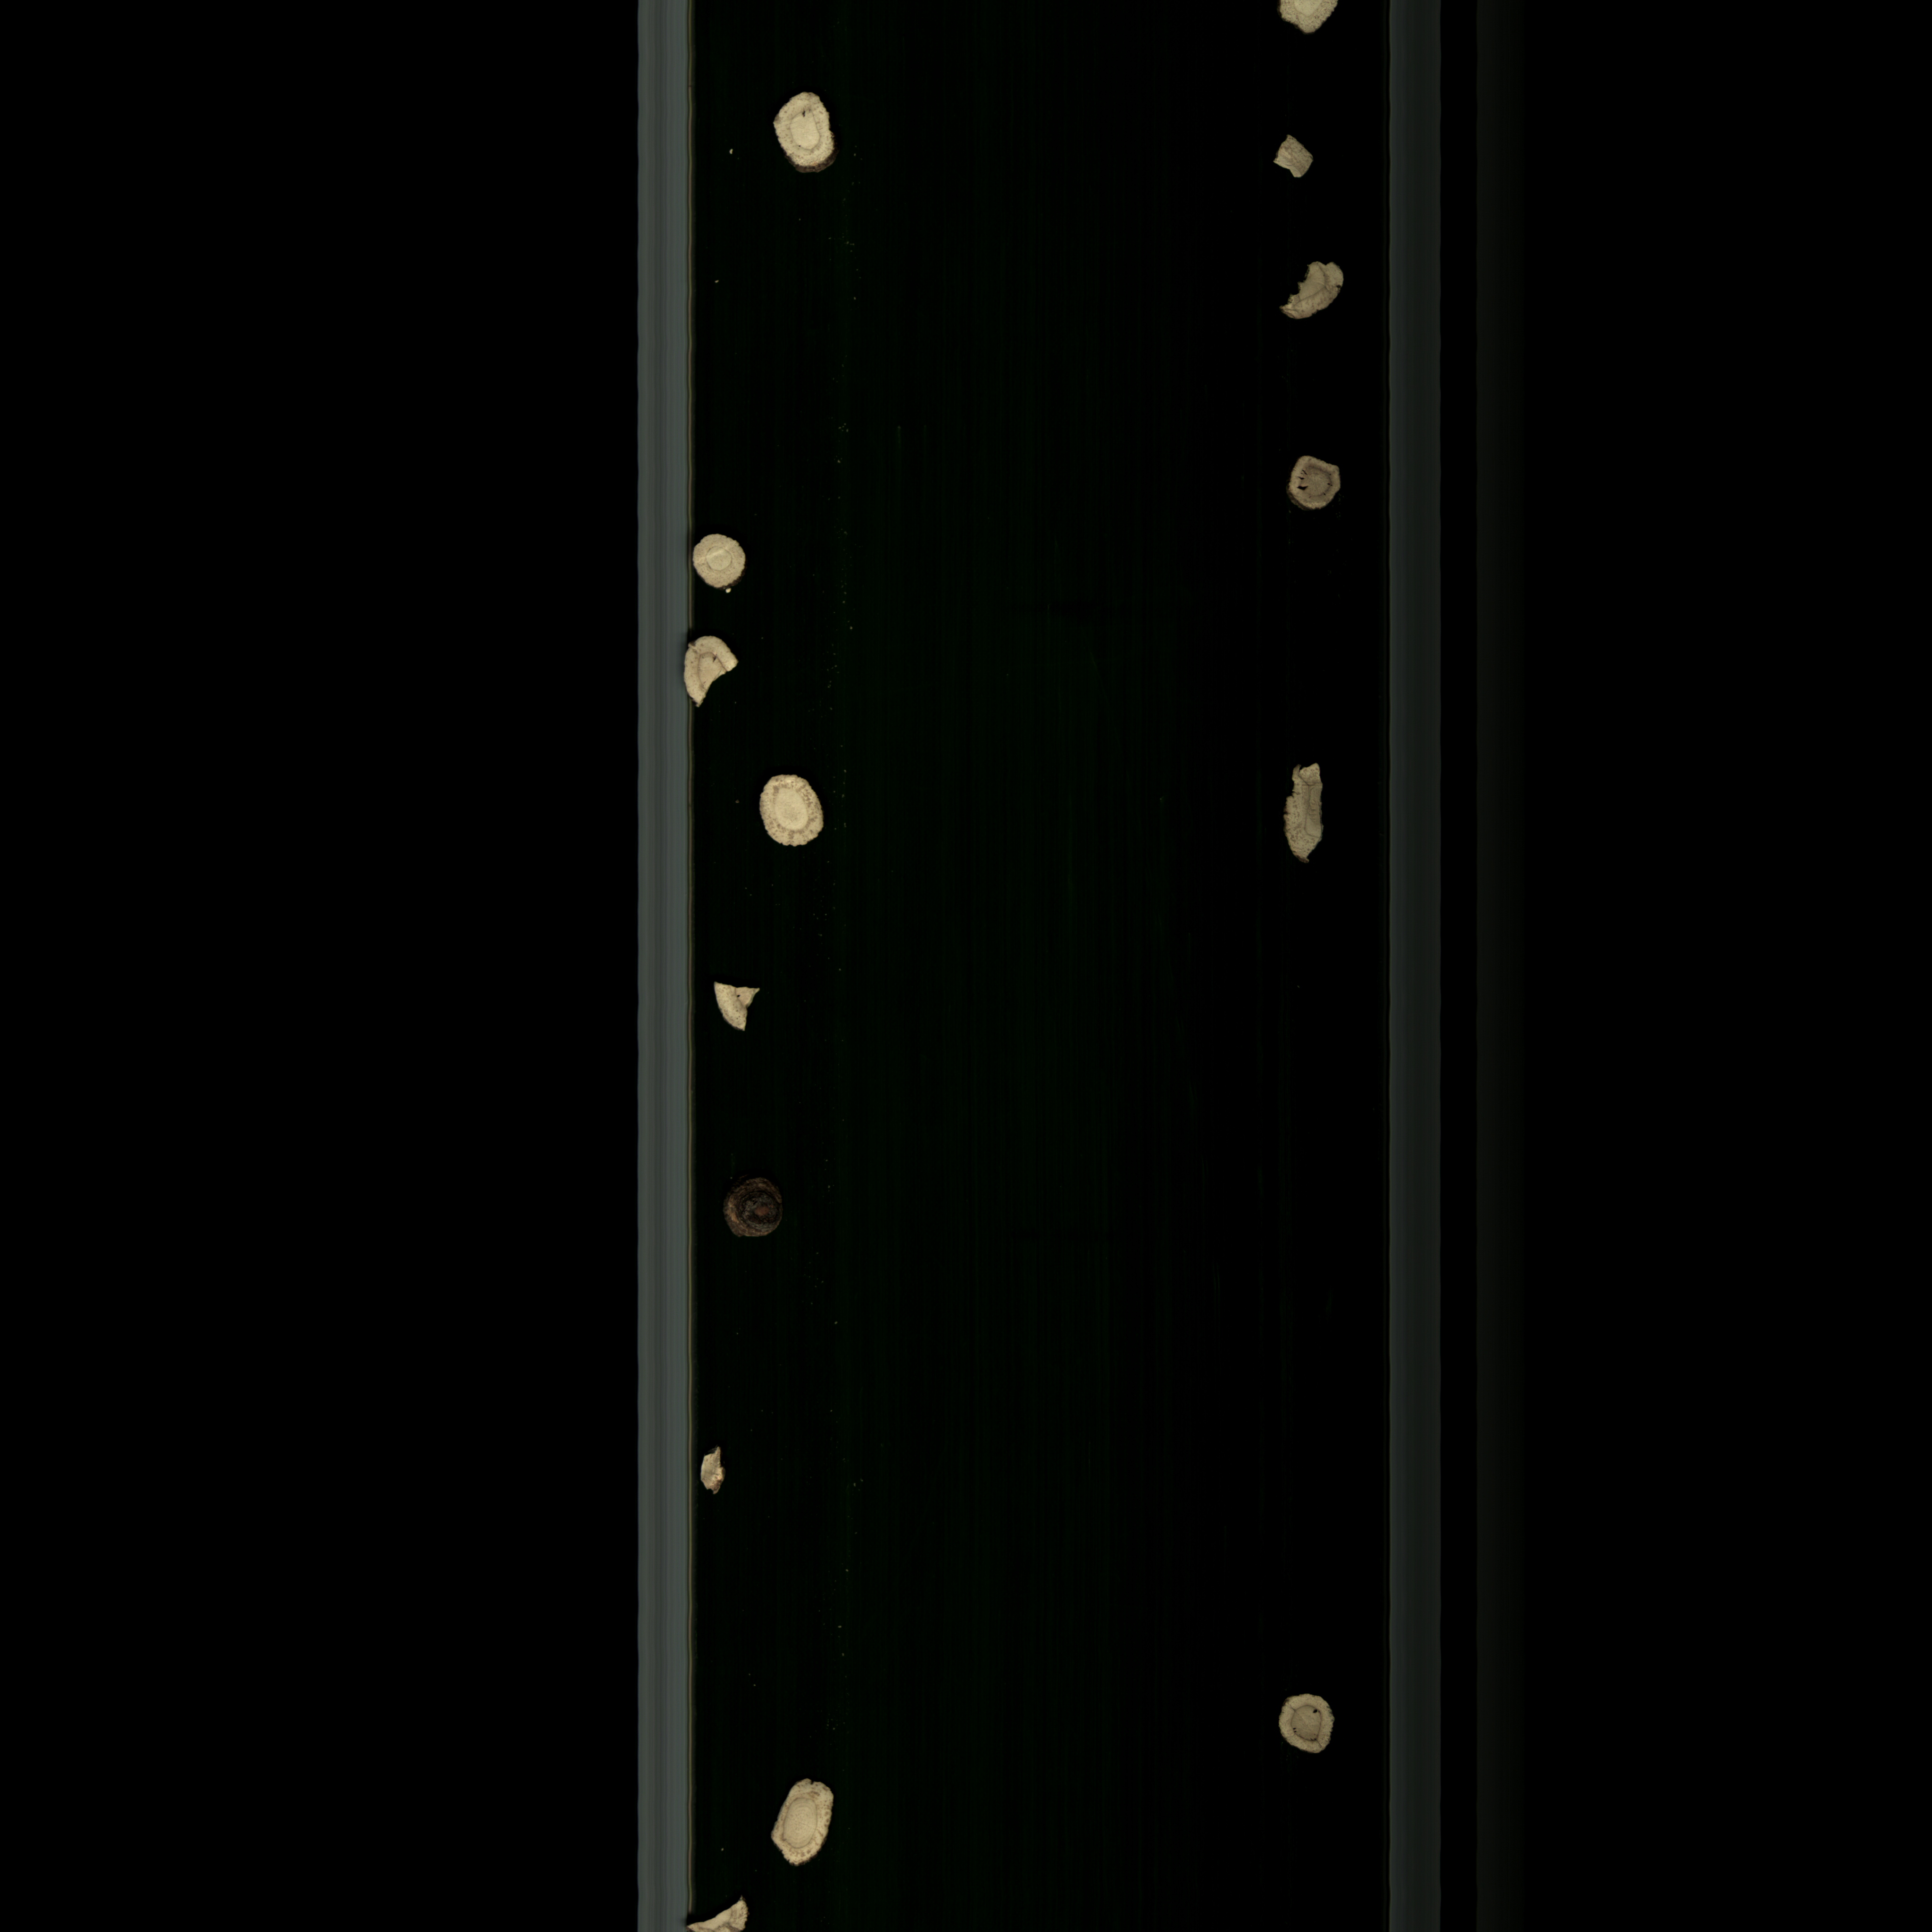bark: (718, 1162, 793, 1253)
debris: (672, 626, 750, 720), (1283, 255, 1355, 336)
distortion: (764, 1759, 844, 1872), (1274, 748, 1332, 865), (1261, 124, 1325, 200), (692, 1442, 734, 1506)
dreg: (701, 970, 780, 1044)
hole: (761, 85, 844, 177)
moldy: (1276, 1683, 1346, 1771), (1281, 449, 1352, 524)
